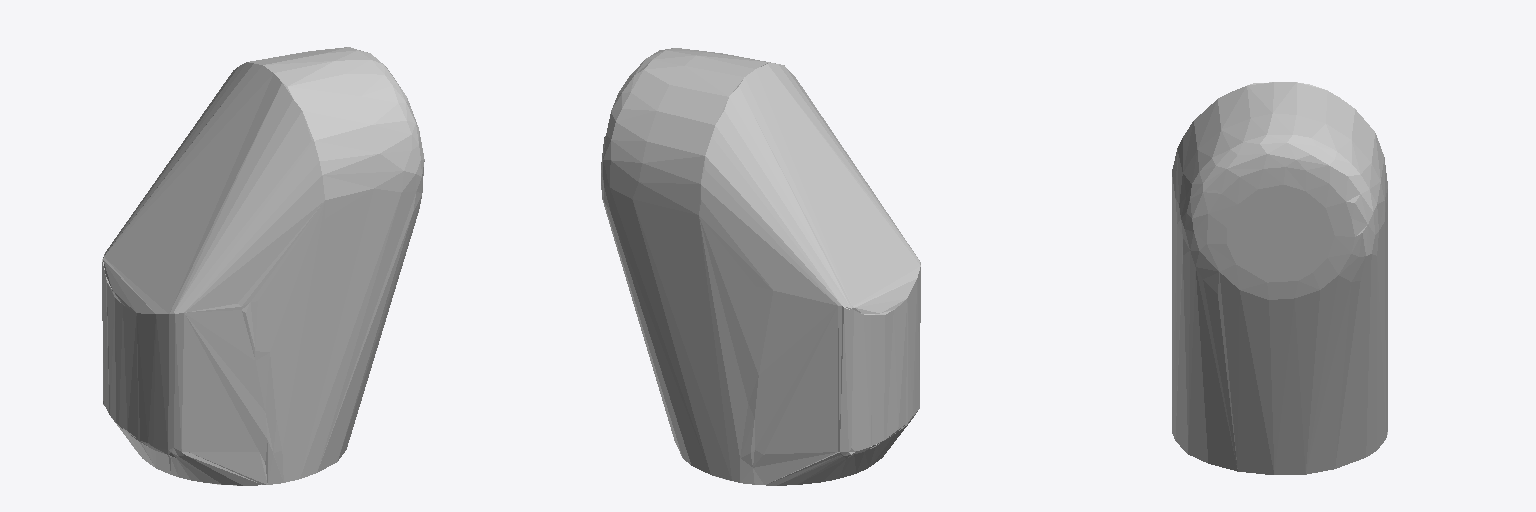
The model's file is arm_2_collision.obj.
3 renders of one model, left to right at view 1: azimuth 30°, elevation 25°; view 2: azimuth 150°, elevation 25°; view 3: azimuth 270°, elevation 25°, orthographic.
Size of the model in its own units: 0.163 by 0.218 by 0.118.